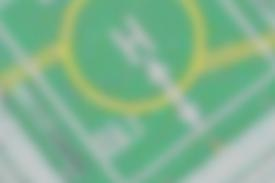Apron: (50, 1, 208, 117)
